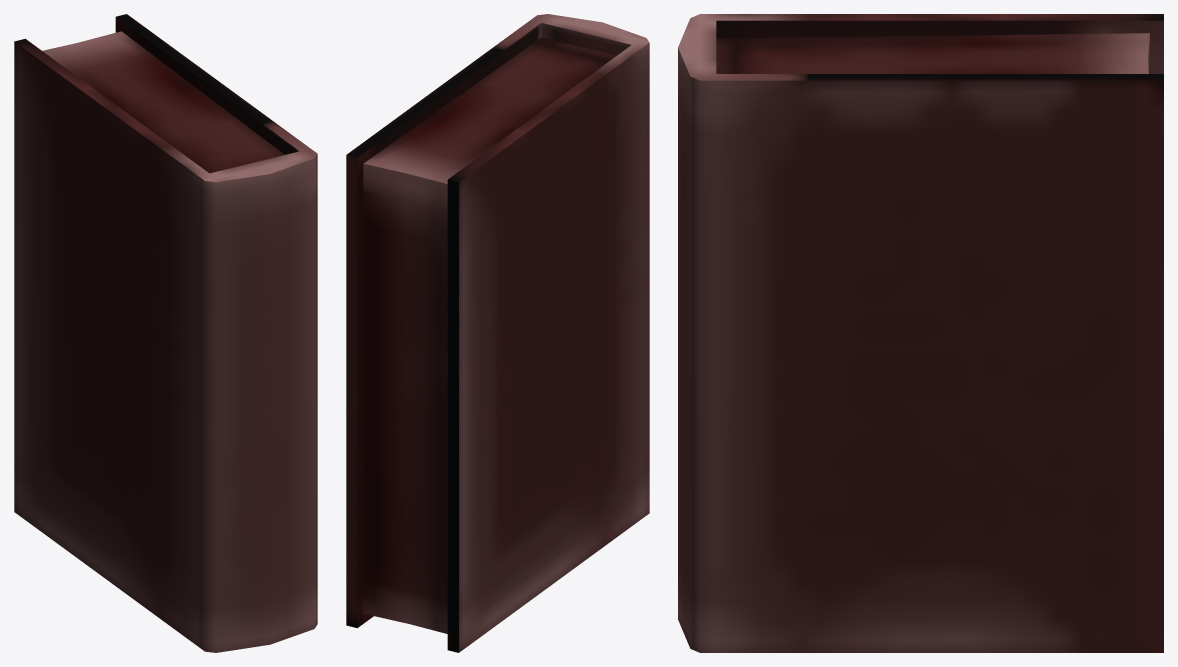
Rendered from RE_PropBook01.FBX.
3 renders of one model, left to right at view 1: azimuth 30°, elevation 25°; view 2: azimuth 150°, elevation 25°; view 3: azimuth 270°, elevation 25°, orthographic. The views are drawn at different scales.
Parts seen in each view (by area): view 1: RE_PropBook01; view 2: RE_PropBook01; view 3: RE_PropBook01.
Part boxes in pixels (bbox=[...]): RE_PropBook01: bbox=[14, 14, 317, 652]; RE_PropBook01: bbox=[346, 14, 649, 652]; RE_PropBook01: bbox=[678, 14, 1163, 652].
Bounding box in the file's own units: 3.18 × 12.71 × 9.78.
1 material, 1 textured.
